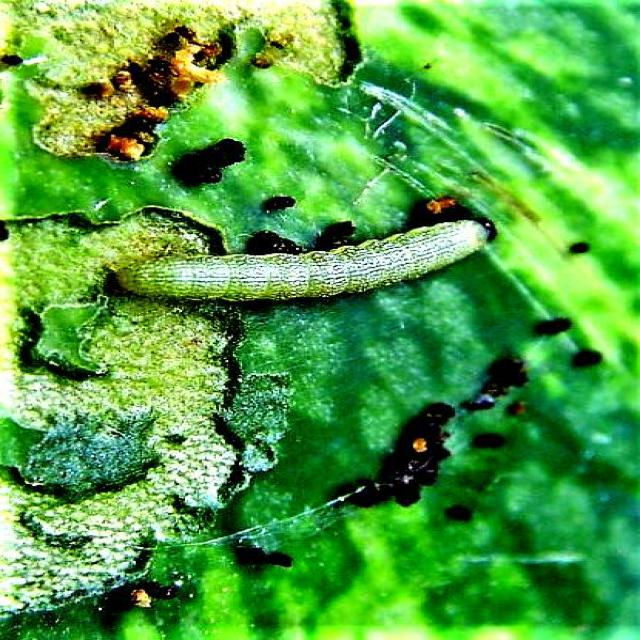armyworm: (114, 217, 491, 302)
